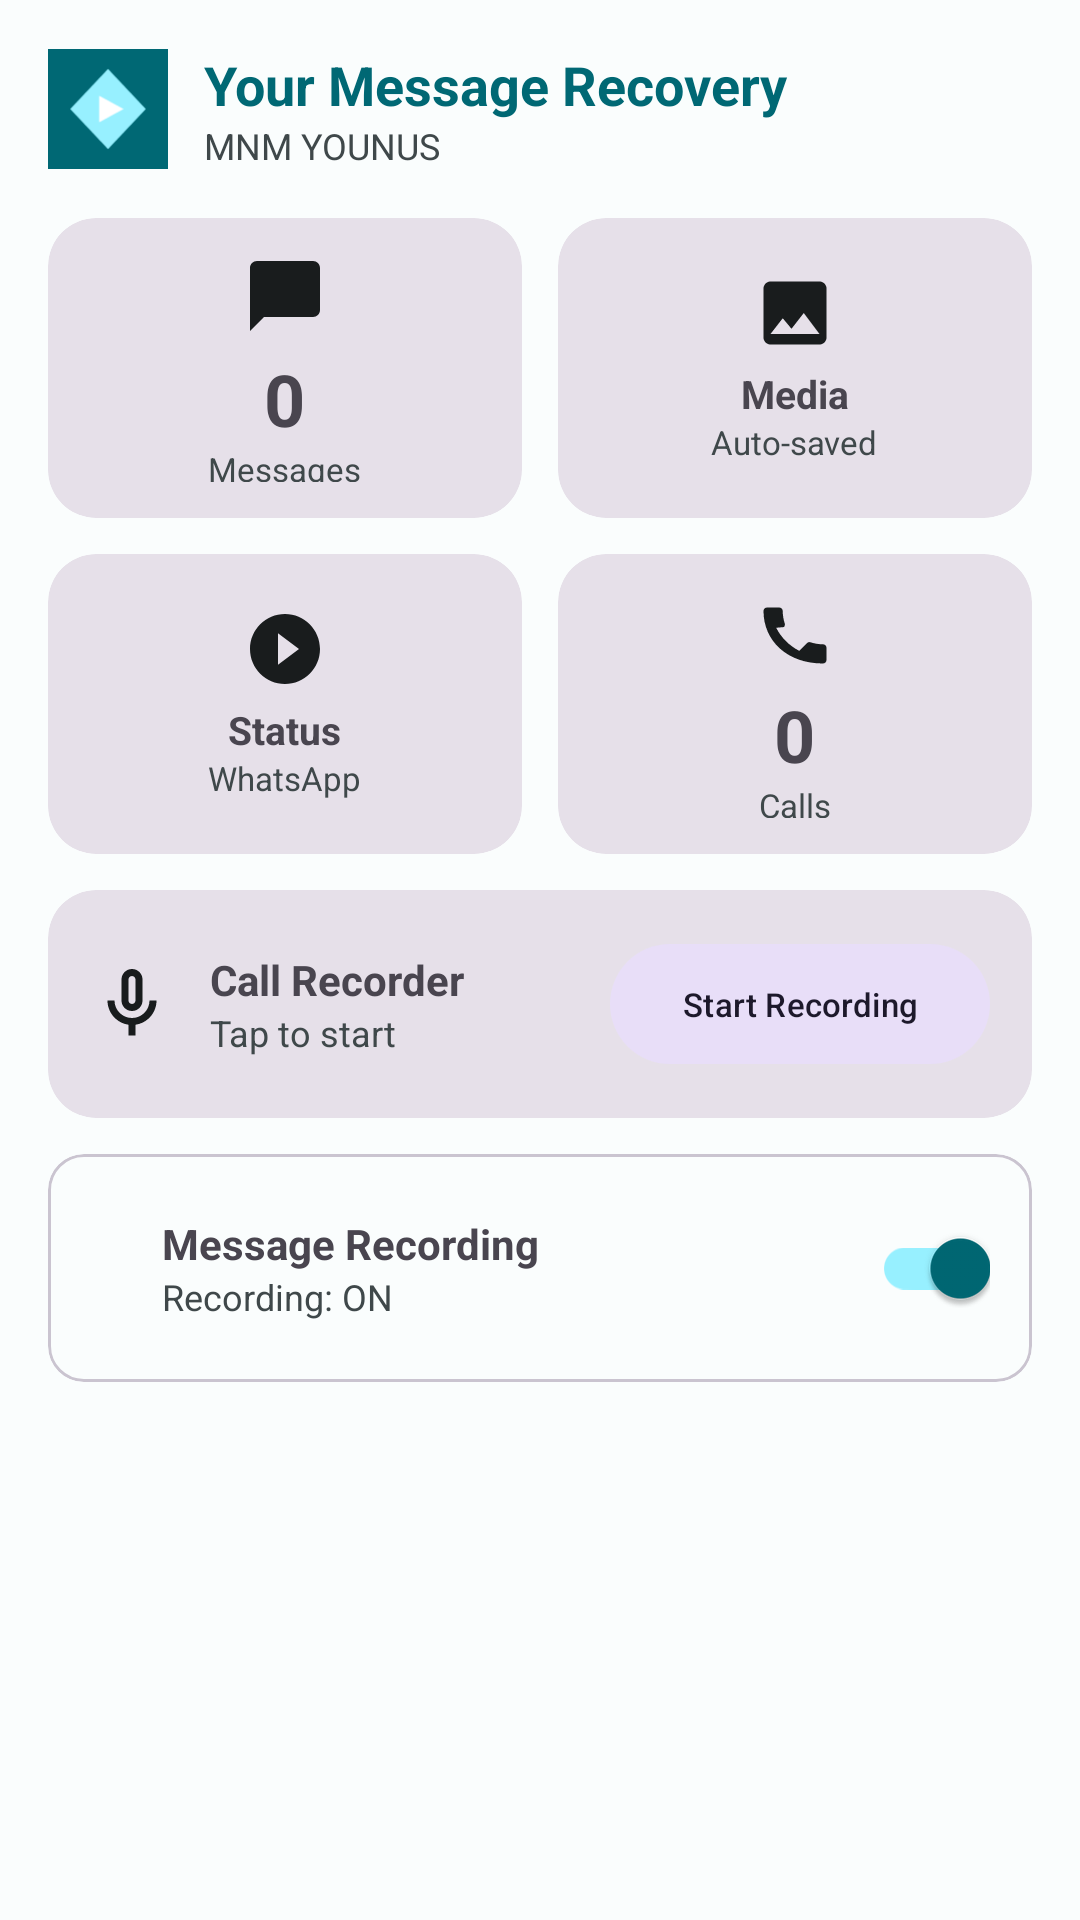

Screen size 1080×1920. Icon name, then its box in pixels as Rect(x1, y1, x2, y2):
rec: Rect(107, 969, 157, 1036)
